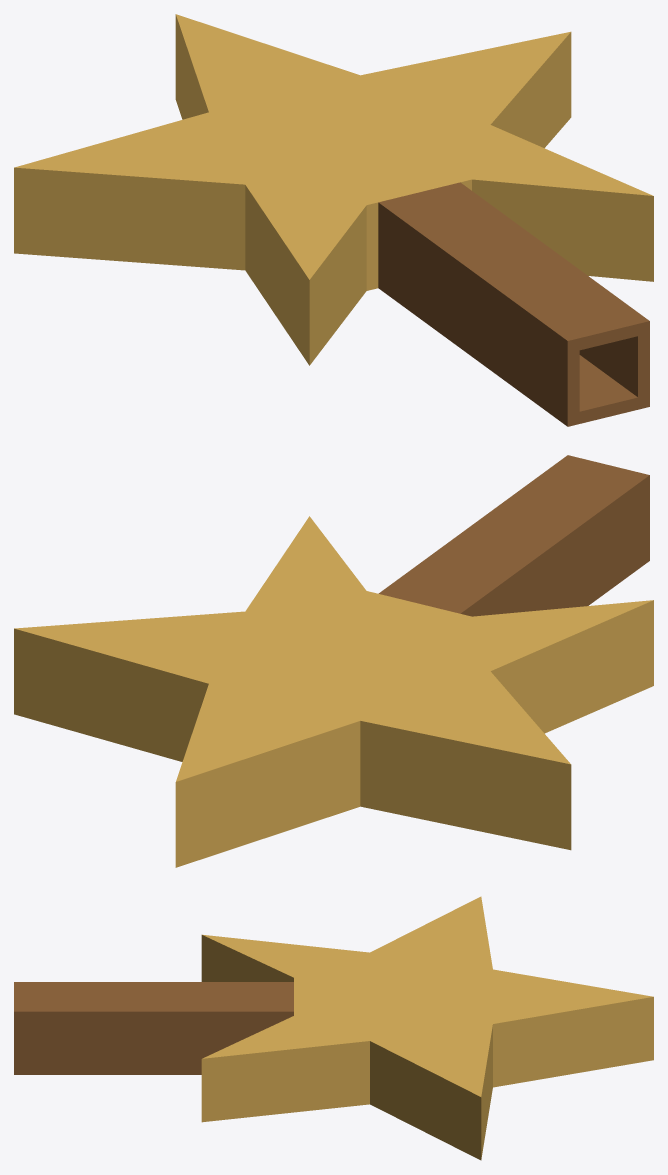
The picture shows the model from 3 angles, top to bottom: view 1: azimuth 30°, elevation 25°; view 2: azimuth 150°, elevation 25°; view 3: azimuth 270°, elevation 25°; orthographic projection. The views are drawn at different scales.
Parts seen in each view (by area): view 1: WholeFivePointConcaveStarWithFlatValleySeat, WholeBlindRectangularMountingSocket; view 2: WholeFivePointConcaveStarWithFlatValleySeat, WholeBlindRectangularMountingSocket; view 3: WholeFivePointConcaveStarWithFlatValleySeat, WholeBlindRectangularMountingSocket.
Boxes of the visible parts, box(x1,y1,x2,y2) form: WholeFivePointConcaveStarWithFlatValleySeat: box(14, 14, 653, 365); WholeBlindRectangularMountingSocket: box(378, 182, 649, 426); WholeFivePointConcaveStarWithFlatValleySeat: box(14, 516, 653, 867); WholeBlindRectangularMountingSocket: box(378, 455, 649, 616); WholeFivePointConcaveStarWithFlatValleySeat: box(201, 896, 653, 1160); WholeBlindRectangularMountingSocket: box(14, 982, 293, 1074).
Size of the model in its own units: 0.4755 by 0.07 by 0.64.
